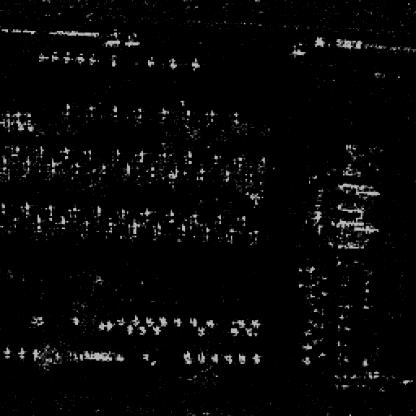airplane: (127, 219, 141, 239), (245, 229, 260, 245), (164, 166, 180, 180), (174, 223, 188, 239), (110, 102, 122, 120), (84, 104, 98, 119), (58, 146, 72, 161), (230, 154, 244, 169), (93, 202, 104, 220), (200, 223, 214, 237), (223, 228, 237, 242), (211, 151, 226, 164), (151, 223, 166, 236), (213, 211, 226, 226), (47, 160, 59, 176), (81, 218, 93, 234), (96, 162, 109, 176), (57, 213, 70, 227), (138, 205, 151, 219), (162, 208, 176, 221), (107, 52, 119, 67), (68, 203, 80, 218), (86, 52, 99, 65), (20, 158, 32, 172), (187, 212, 201, 224), (237, 214, 249, 228), (68, 315, 82, 327), (0, 158, 10, 174), (46, 202, 56, 218), (190, 57, 202, 70), (159, 108, 171, 121), (134, 148, 146, 161), (61, 101, 72, 115), (10, 144, 21, 158), (166, 56, 178, 68), (229, 110, 241, 122), (82, 150, 94, 162), (19, 202, 31, 214), (205, 108, 216, 121), (148, 164, 159, 177), (104, 219, 115, 232), (72, 162, 82, 176), (112, 148, 122, 162), (184, 150, 194, 164), (196, 166, 206, 180), (14, 344, 24, 358), (61, 50, 72, 62), (145, 55, 156, 67), (132, 106, 143, 118), (1, 346, 12, 358), (250, 353, 262, 364), (221, 169, 231, 182), (118, 206, 128, 219), (182, 351, 193, 362), (74, 50, 84, 62), (124, 160, 134, 172), (8, 216, 18, 228), (38, 146, 46, 160), (182, 109, 192, 120), (195, 351, 205, 362), (30, 346, 38, 359), (237, 354, 247, 364), (104, 320, 112, 332), (227, 326, 239, 334), (188, 315, 197, 325), (223, 354, 232, 364), (125, 323, 132, 335), (36, 213, 44, 223), (98, 322, 106, 332), (115, 317, 125, 325), (138, 325, 146, 335), (144, 315, 152, 325), (158, 314, 166, 324), (205, 317, 213, 327), (244, 328, 254, 336), (210, 352, 218, 362), (0, 201, 6, 214), (51, 49, 58, 60), (236, 318, 245, 326), (249, 318, 258, 326), (151, 325, 159, 333), (172, 317, 180, 325), (37, 54, 47, 60), (197, 325, 203, 335), (132, 316, 138, 324)
